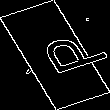P_SW: (13, 28, 97, 82)
